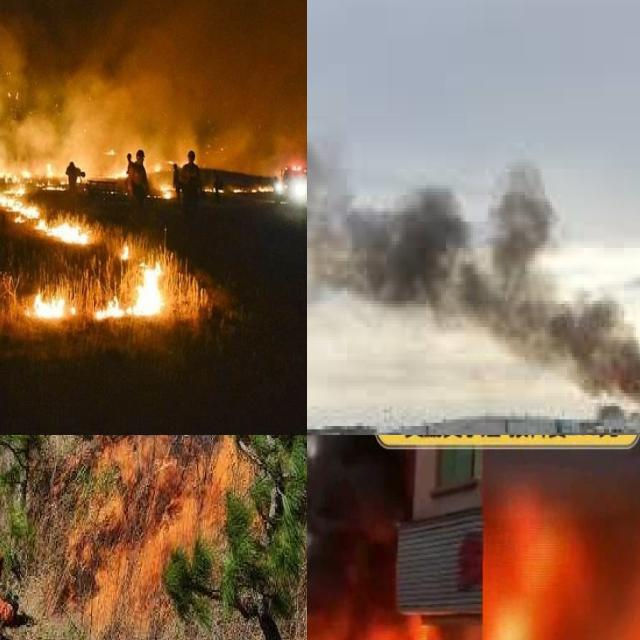fire: (41, 435, 265, 639), (0, 145, 172, 326)
smoke: (307, 119, 640, 412), (0, 0, 307, 169), (307, 435, 420, 640)
